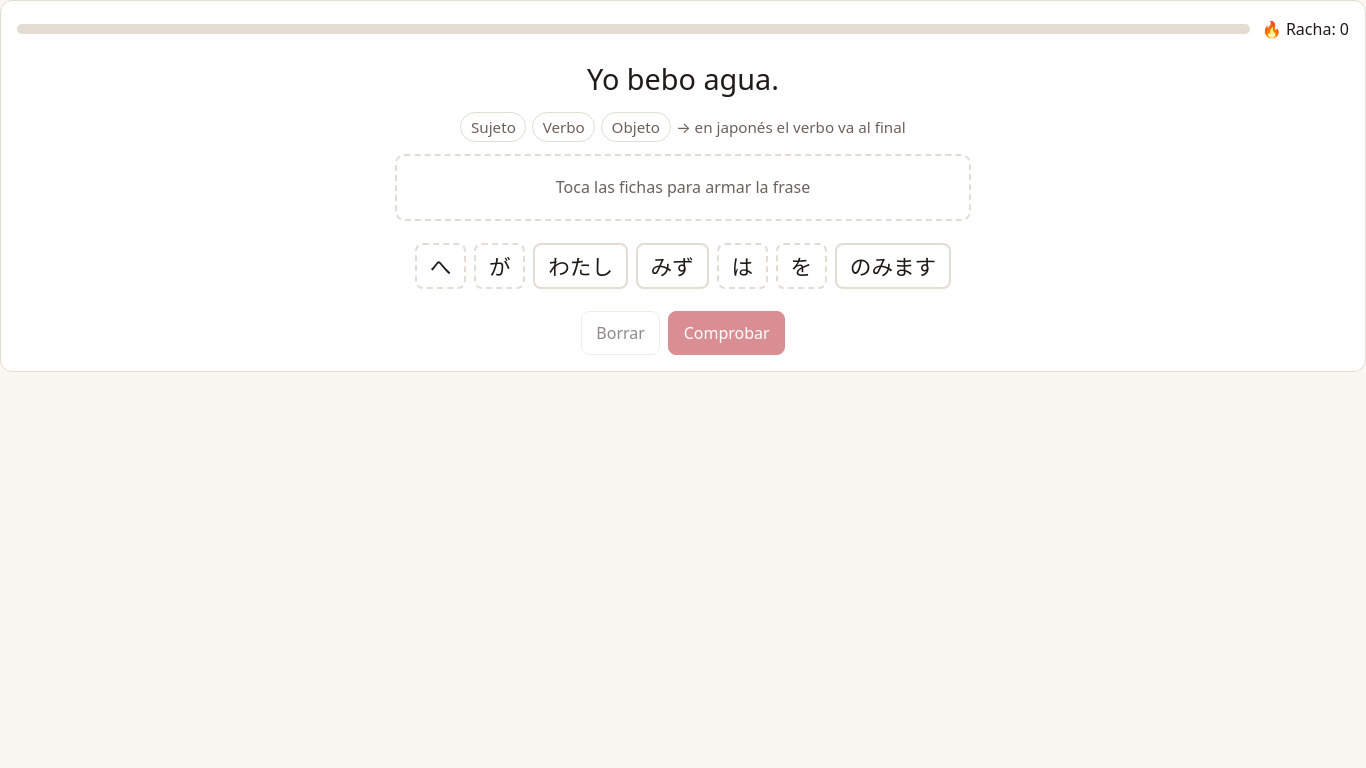
Test case: syntax game › wrong order: reports a mistake, shows the solution; tiles can be taken back
Step 1. Click the button "のみます" → x=893, y=266, box [835, 242, 951, 289]
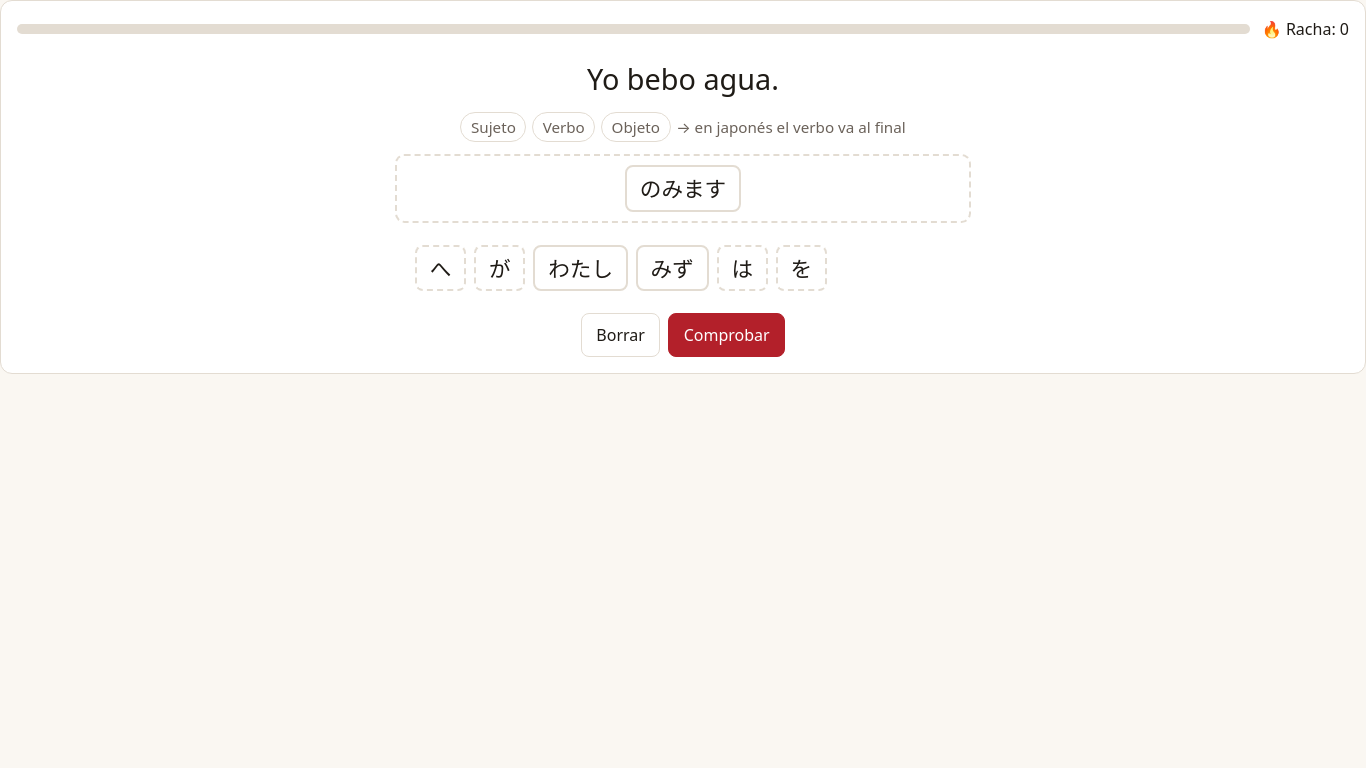
Step 2. Click the button "わたし" → x=581, y=268, box [533, 245, 628, 291]
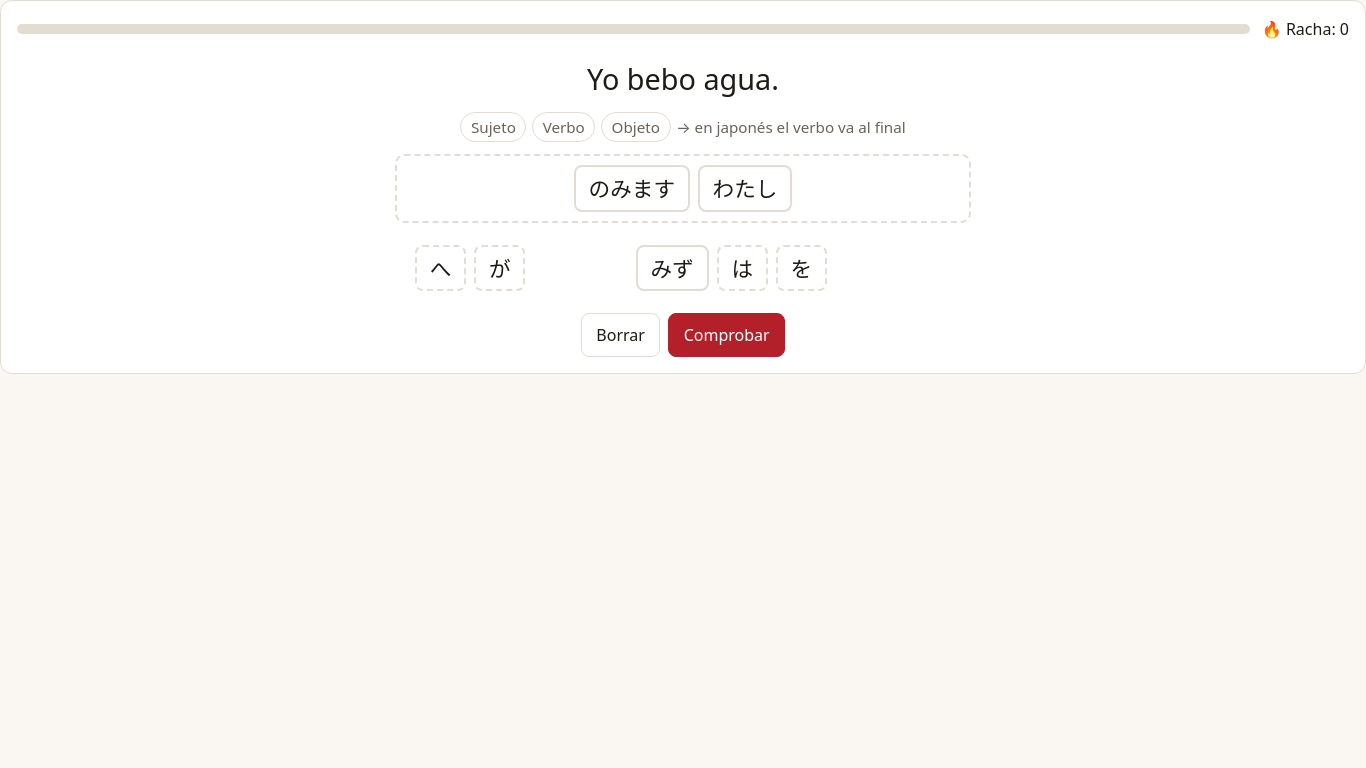
Step 3. Click the button with test id "placed-0" → x=632, y=189, box [574, 165, 690, 212]
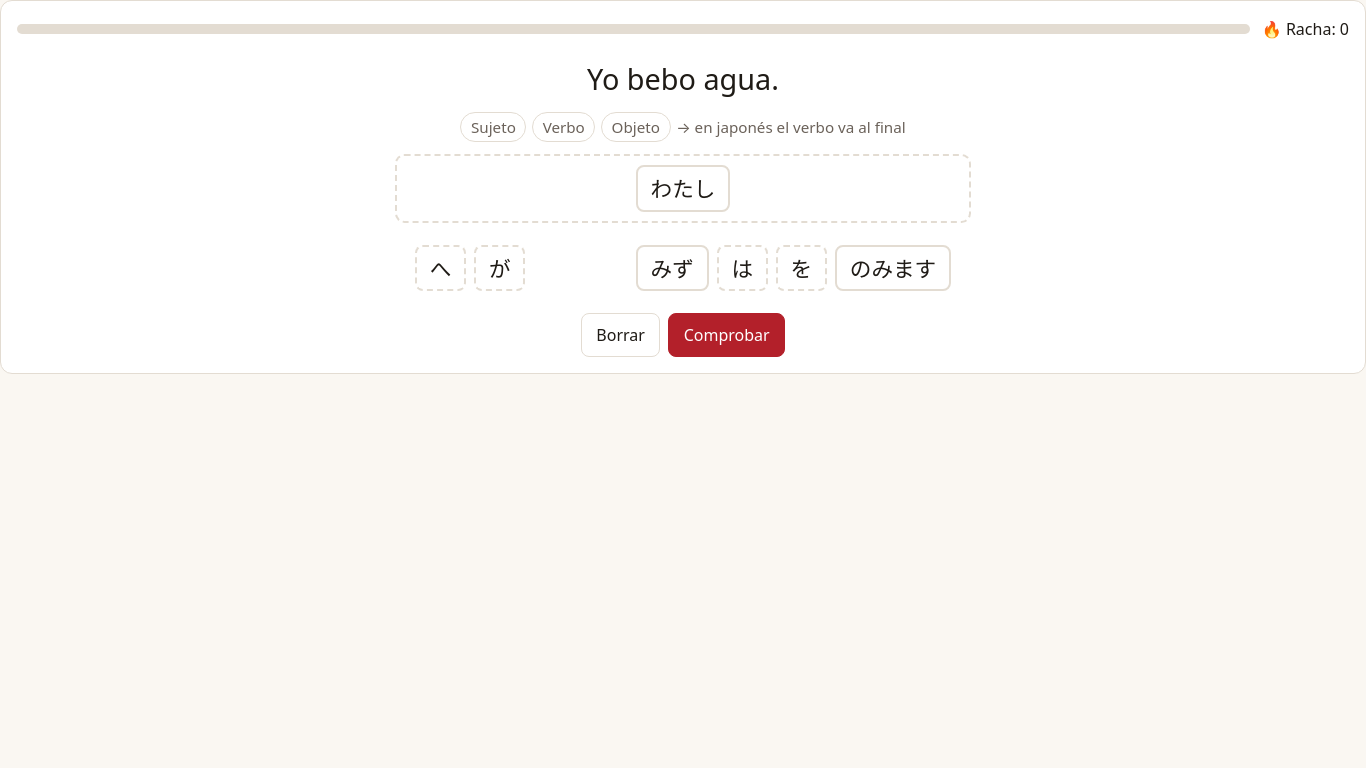
Result: the button with test id "placed-0" reads "わたし" at [636, 165, 730, 212]
Step 4. Click the button "みず" → x=672, y=268, box [636, 245, 709, 291]
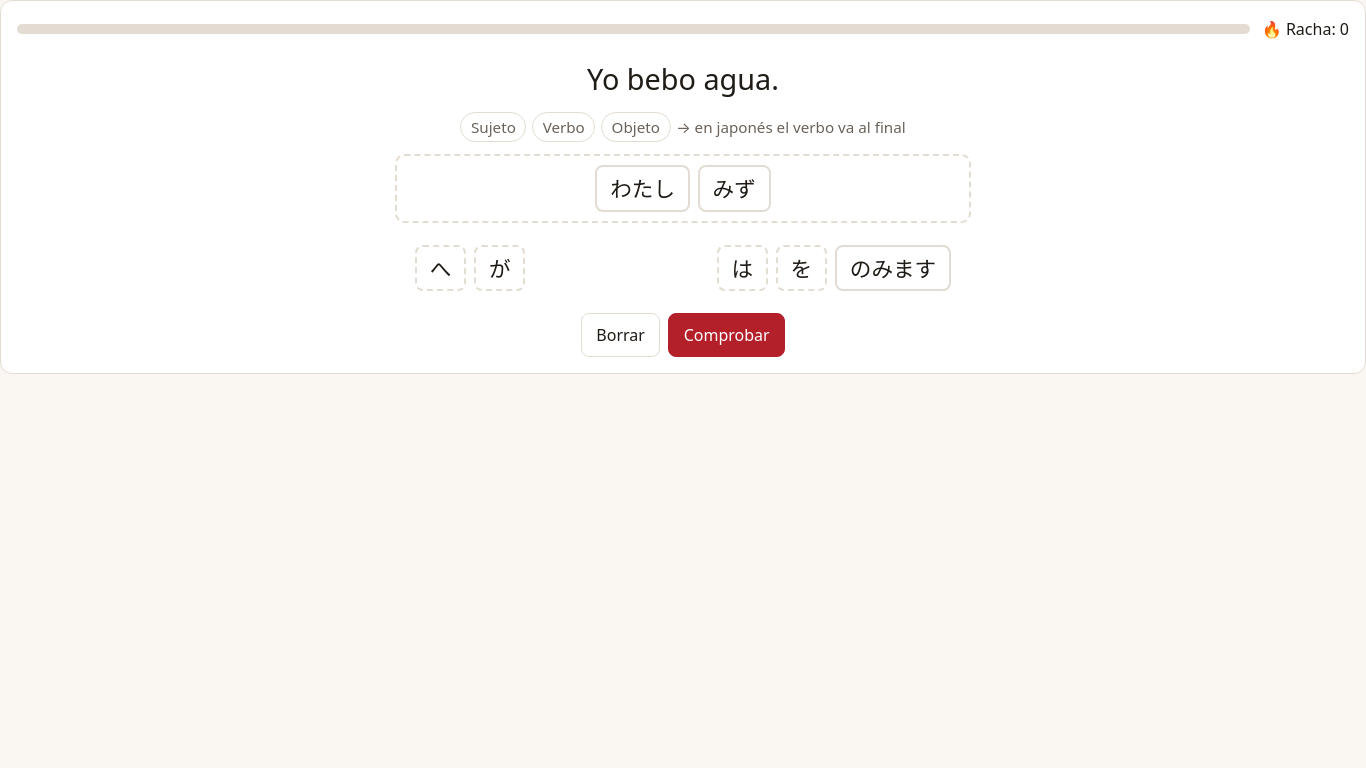
Step 5. Click the button "Comprobar" → x=727, y=335, box [668, 313, 785, 357]
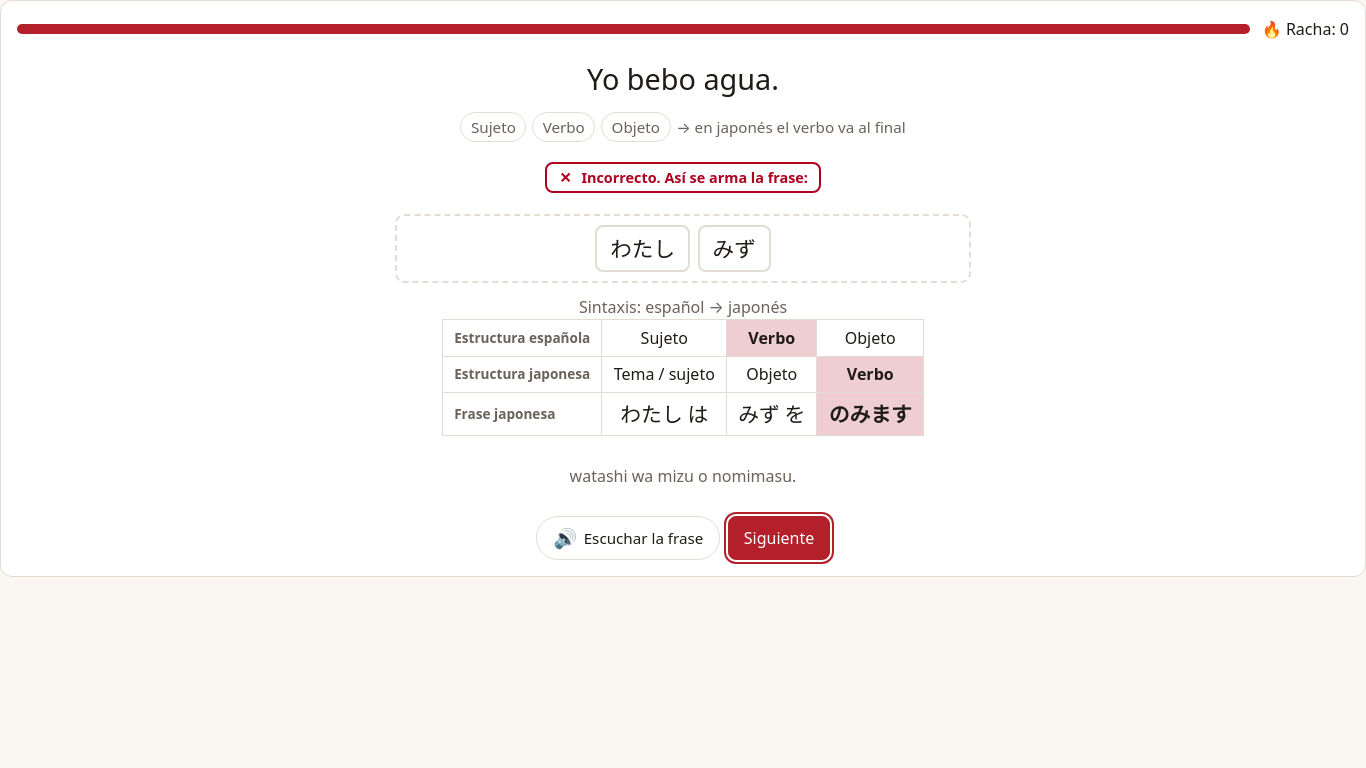
Result: the text "Incorrecto. Así se arma la frase:" is shown at [581, 169, 808, 186]
Result: the table with test id "solution-table" shows "のみます" at [829, 398, 912, 428]
